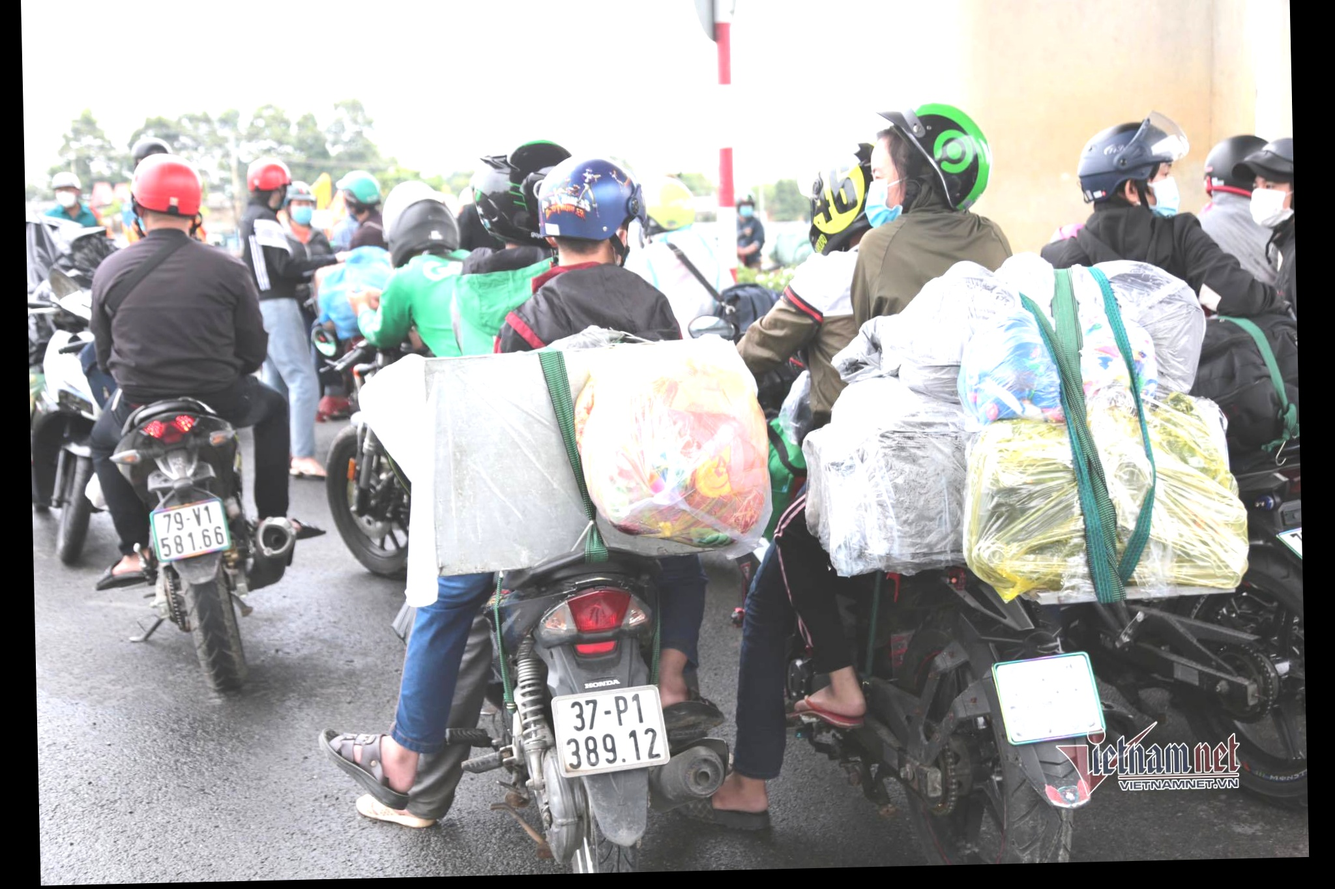Bien-so: (552, 691, 677, 780), (1022, 679, 1139, 766), (134, 498, 218, 562)
